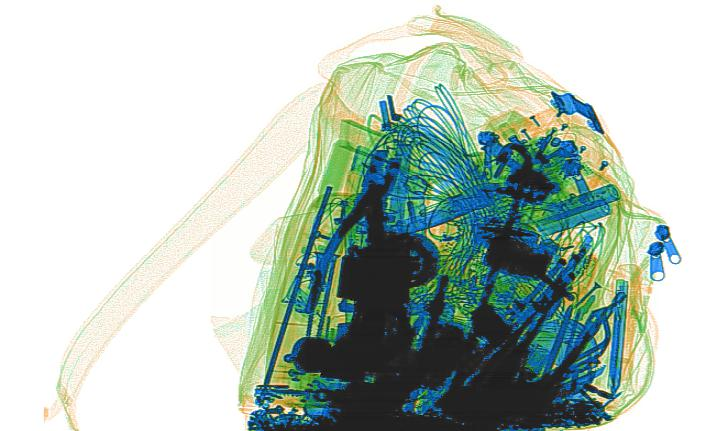battery: (535, 183, 619, 237)
knife: (605, 263, 641, 395)
